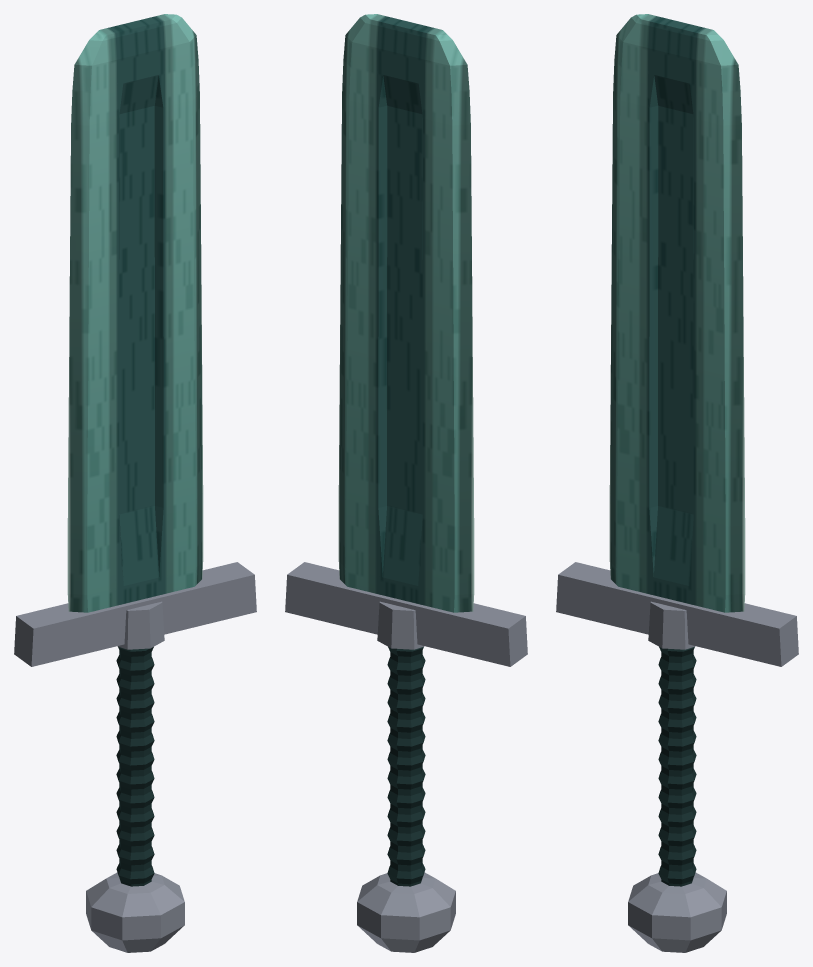
Rendered from adamant_blade.obj.
3 renders of one model, left to right at view 1: azimuth 30°, elevation 25°; view 2: azimuth 150°, elevation 25°; view 3: azimuth 330°, elevation 25°, orthographic.
Parts seen in each view (by area): view 1: A_Blade.001_adamant_blade_blade, B_Guard.001_adamant_blade_fittings, C_Grip.001_adamant_blade_grip, C_Pommel.001_adamant_blade_fittings, B_Collar.001_adamant_blade_fittings; view 2: A_Blade.001_adamant_blade_blade, B_Guard.001_adamant_blade_fittings, C_Grip.001_adamant_blade_grip, C_Pommel.001_adamant_blade_fittings, B_Collar.001_adamant_blade_fittings; view 3: A_Blade.001_adamant_blade_blade, B_Guard.001_adamant_blade_fittings, C_Grip.001_adamant_blade_grip, C_Pommel.001_adamant_blade_fittings, B_Collar.001_adamant_blade_fittings.
Boxes of the visible parts, <box> form: A_Blade.001_adamant_blade_blade: <box>67,14,203,612</box>; B_Guard.001_adamant_blade_fittings: <box>14,562,256,666</box>; C_Grip.001_adamant_blade_grip: <box>116,646,154,886</box>; C_Pommel.001_adamant_blade_fittings: <box>86,872,184,952</box>; B_Collar.001_adamant_blade_fittings: <box>117,601,164,649</box>; A_Blade.001_adamant_blade_blade: <box>338,14,474,612</box>; B_Guard.001_adamant_blade_fittings: <box>285,562,527,666</box>; C_Grip.001_adamant_blade_grip: <box>387,646,425,886</box>; C_Pommel.001_adamant_blade_fittings: <box>357,872,455,952</box>; B_Collar.001_adamant_blade_fittings: <box>377,601,424,649</box>; A_Blade.001_adamant_blade_blade: <box>609,14,745,612</box>; B_Guard.001_adamant_blade_fittings: <box>556,562,798,666</box>; C_Grip.001_adamant_blade_grip: <box>658,646,696,886</box>; C_Pommel.001_adamant_blade_fittings: <box>628,872,726,952</box>; B_Collar.001_adamant_blade_fittings: <box>648,601,695,649</box>.
Bounding box in the file's own units: 1.12 × 4.37 × 0.44.
3 materials, 1 textured.
